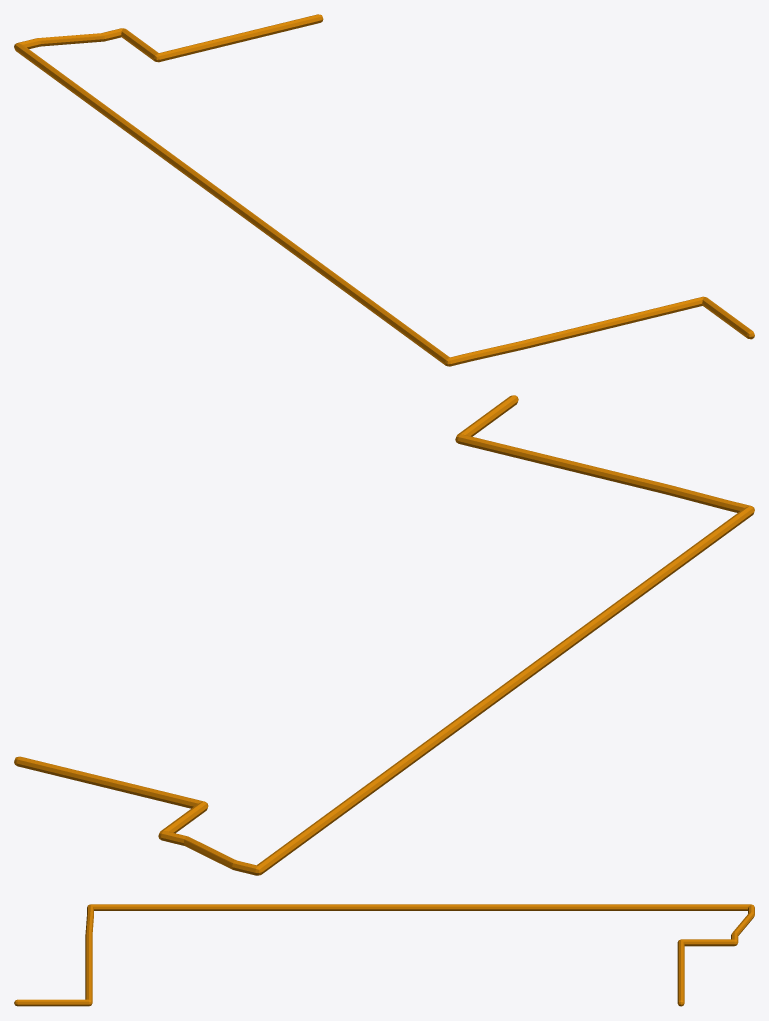
3 views of the same model, one above another, from view 1: azimuth 30°, elevation 25°; view 2: azimuth 150°, elevation 25°; view 3: azimuth 270°, elevation 25° (orthographic). The views are drawn at different scales.
Bounding box in the file's own units: 652 × 20 × 2074.
